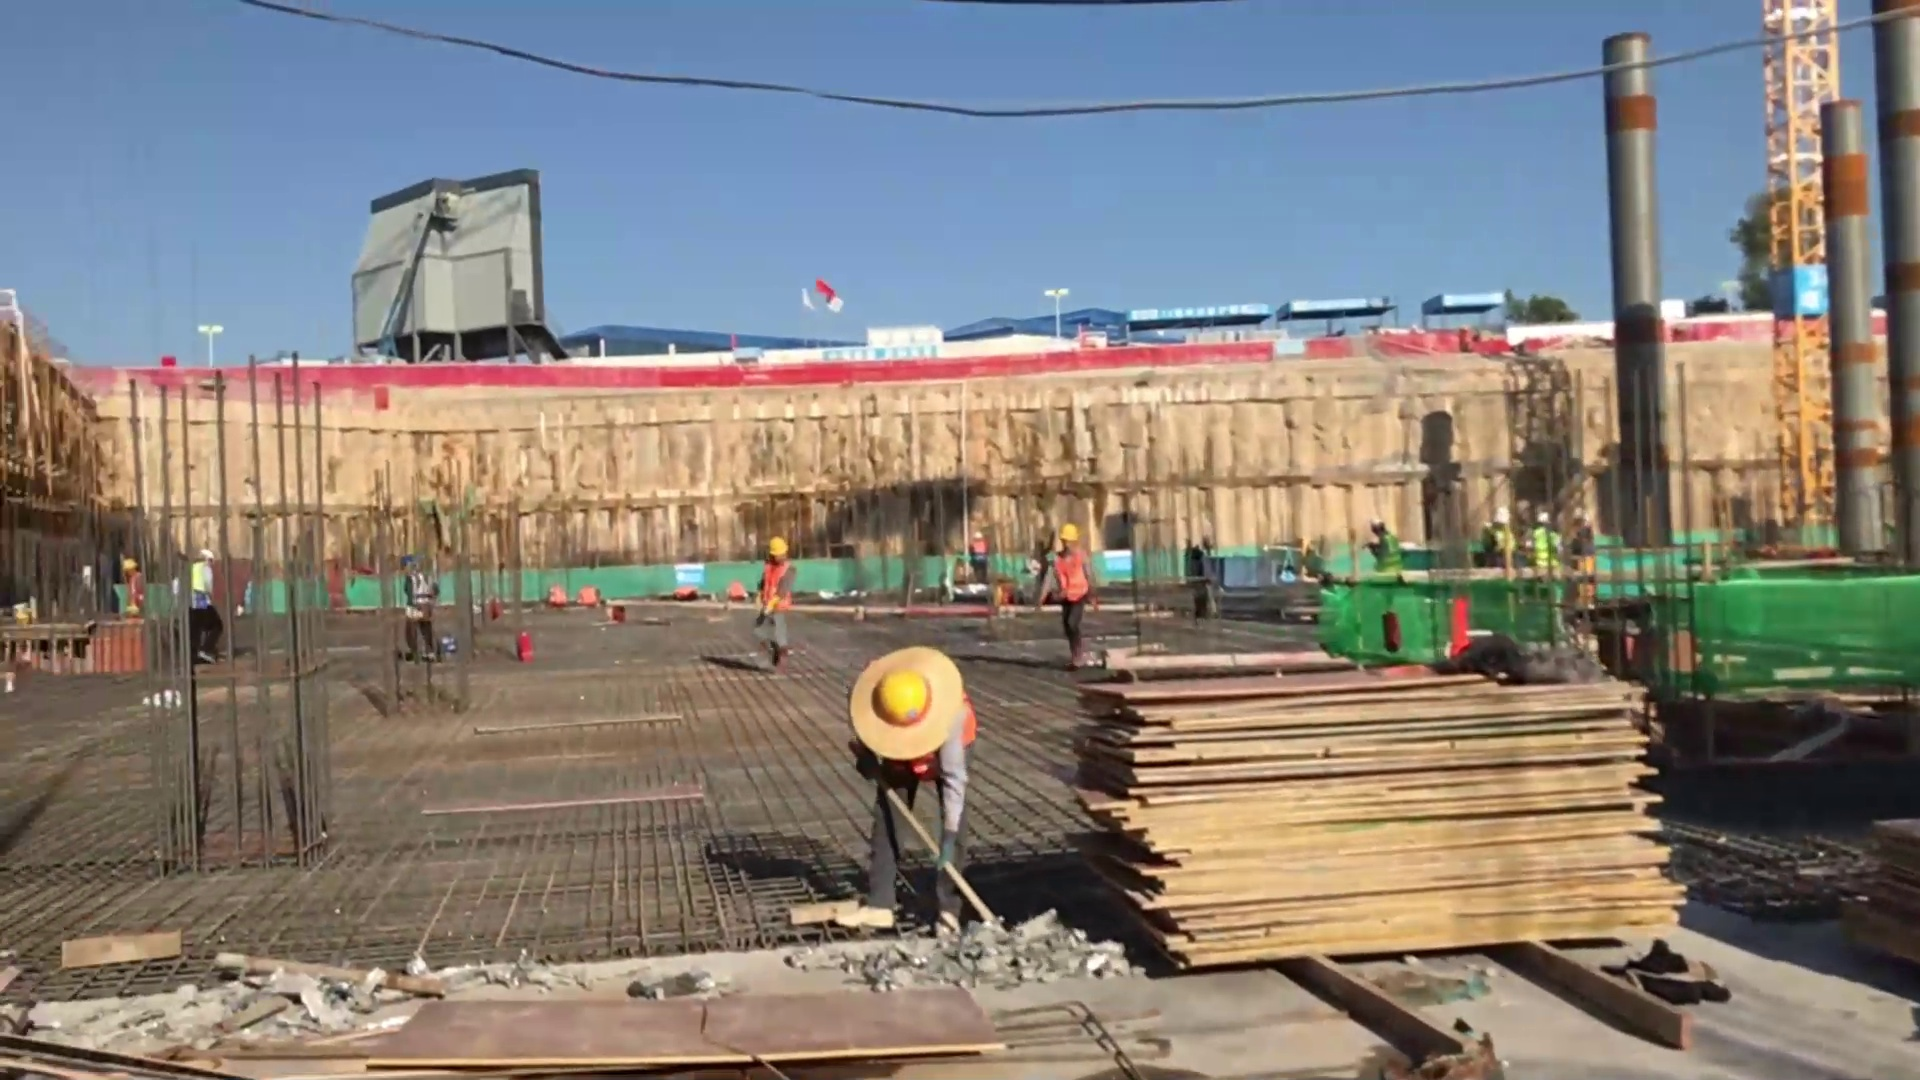helmet: (873, 670, 933, 727)
person: (842, 656, 971, 918), (1051, 524, 1090, 662), (763, 538, 802, 664), (395, 553, 440, 660), (191, 548, 223, 662), (1366, 519, 1408, 574), (1481, 501, 1512, 562), (1527, 508, 1555, 562), (121, 557, 147, 615), (969, 531, 992, 588), (1567, 507, 1593, 550)
vest: (1052, 551, 1089, 606), (765, 566, 793, 616), (972, 542, 986, 564)
